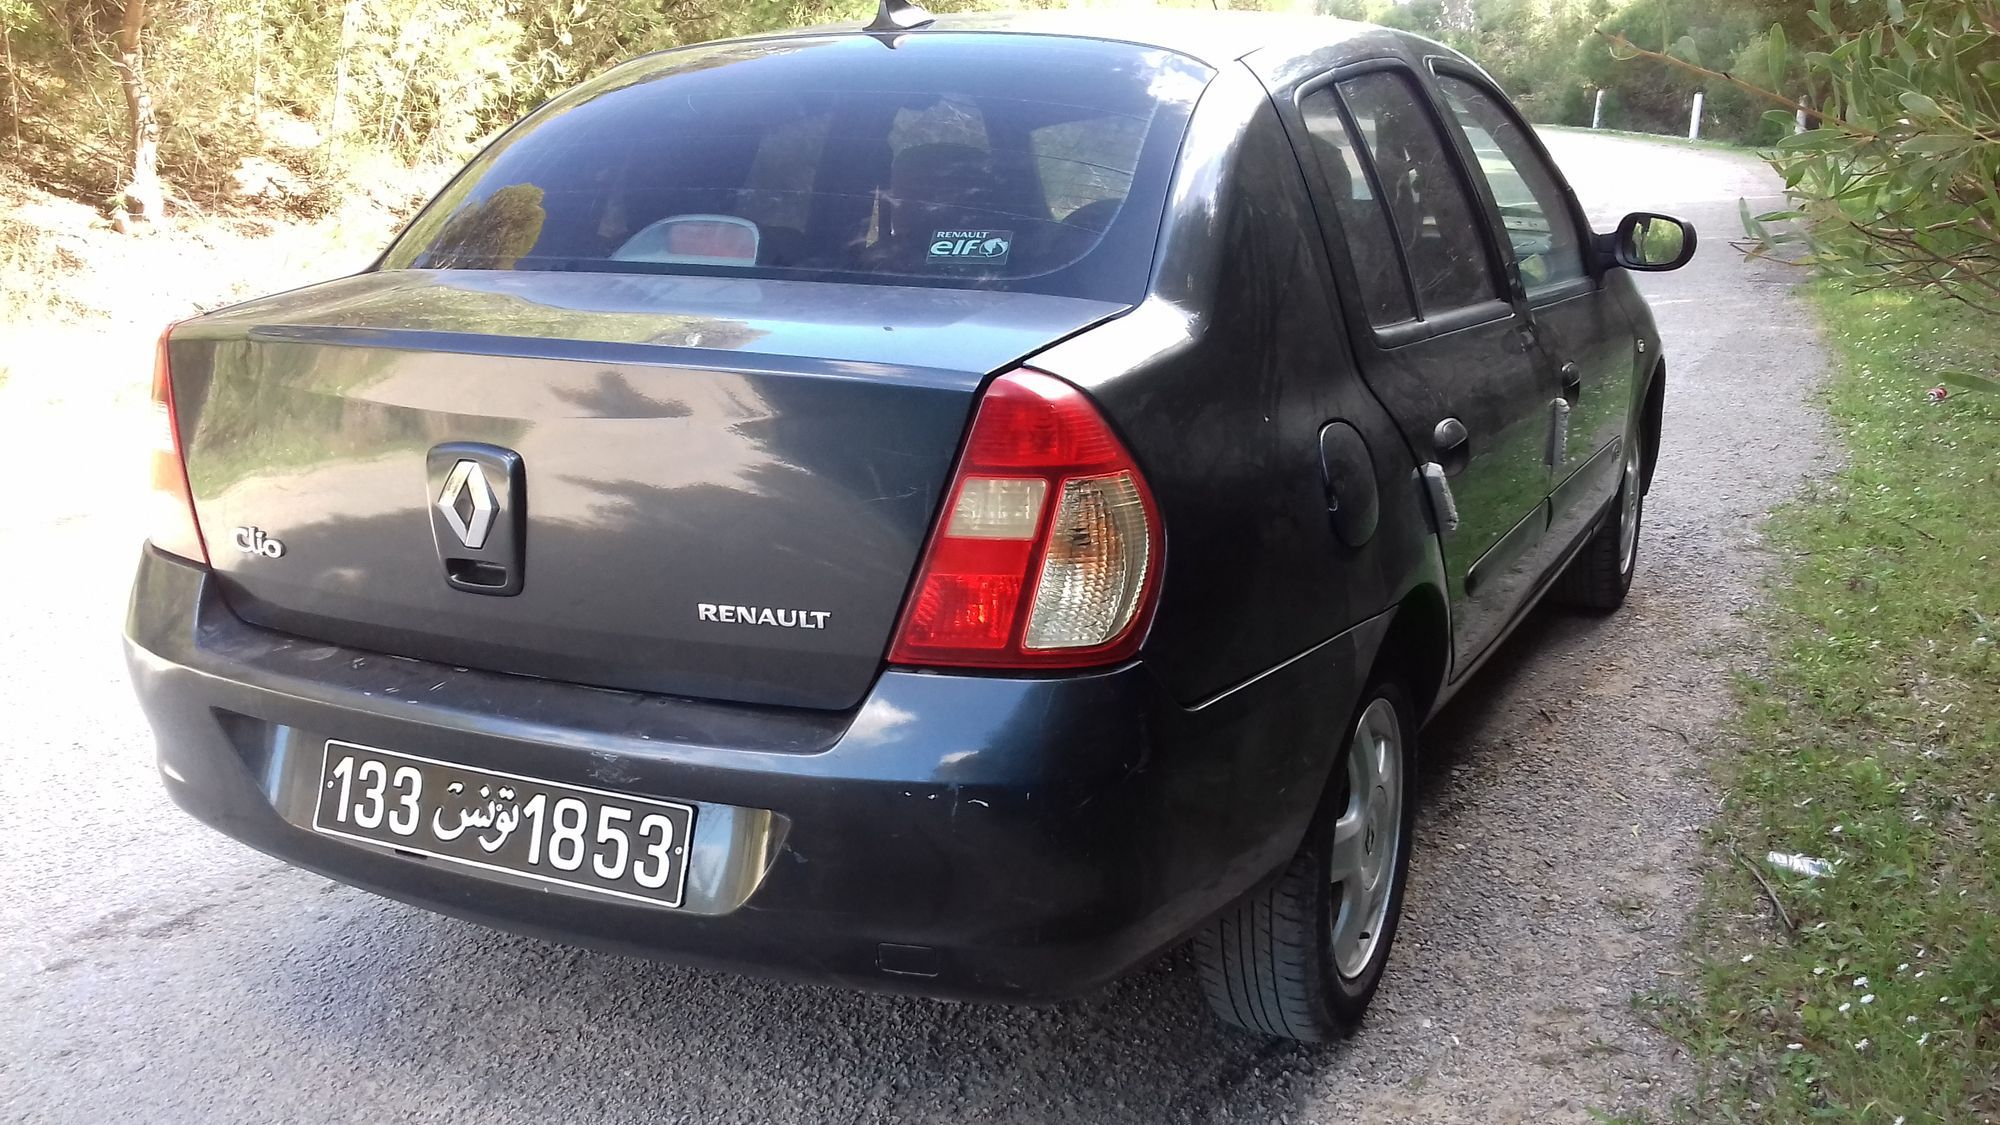LP: (309, 735, 695, 911)
